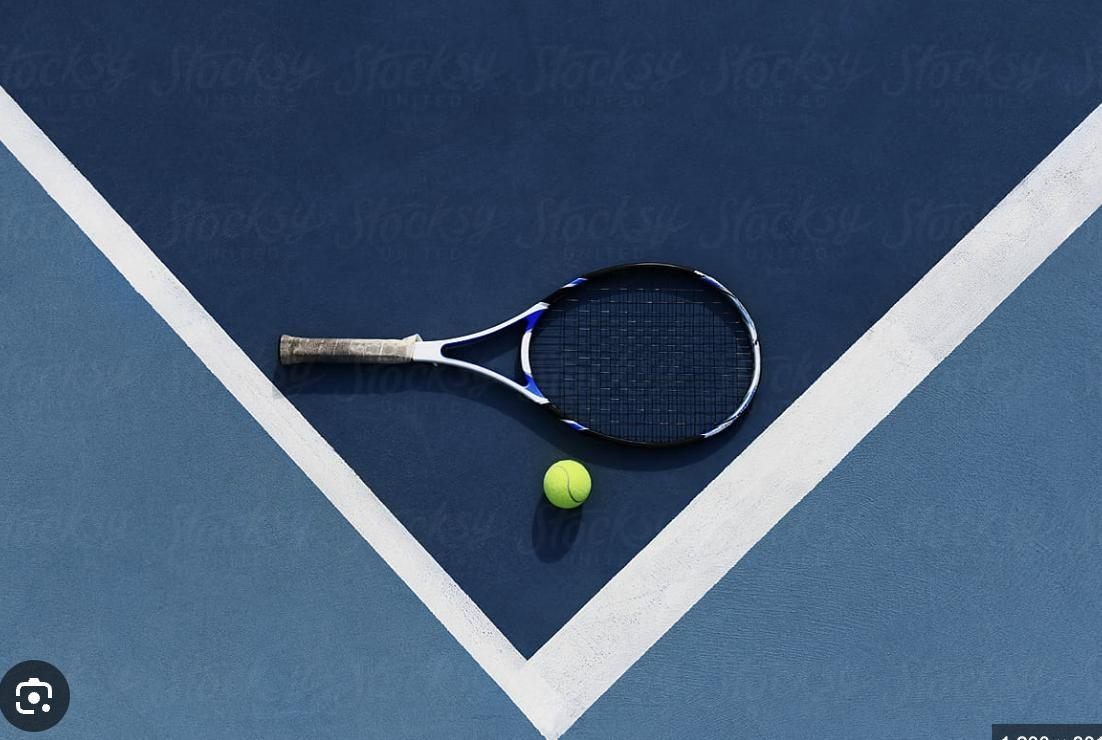Tennis-Racket: (280, 262, 760, 448)
